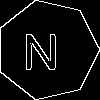N: (22, 25, 59, 70)
